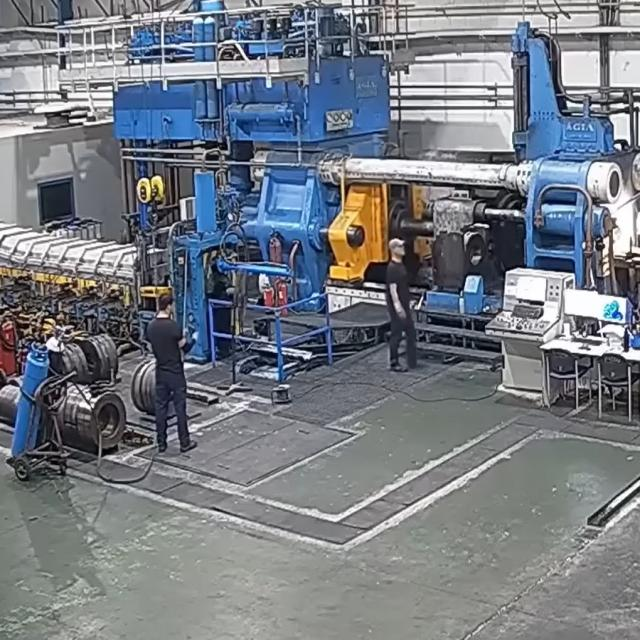standing: (147, 295, 196, 452), (385, 238, 416, 371)
